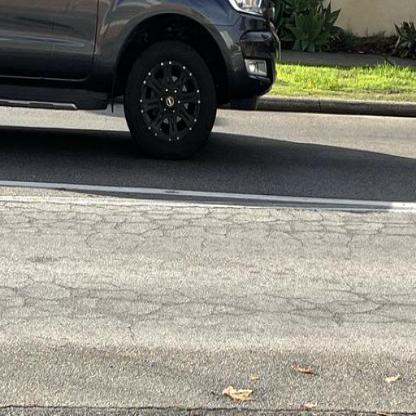Tire: (123, 41, 217, 156)
